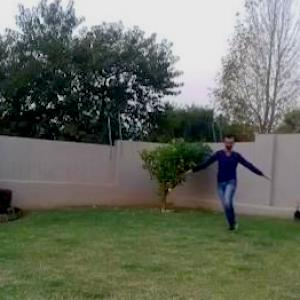land: (172, 126, 260, 230)
